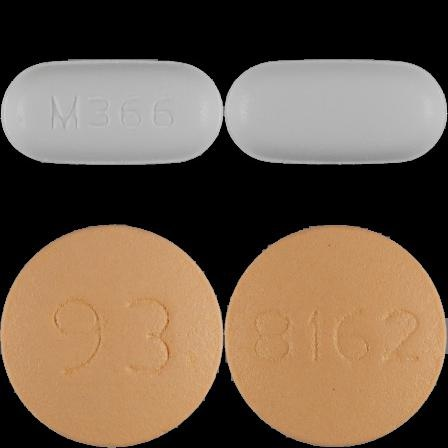76237-400: (0, 0, 224, 224)
